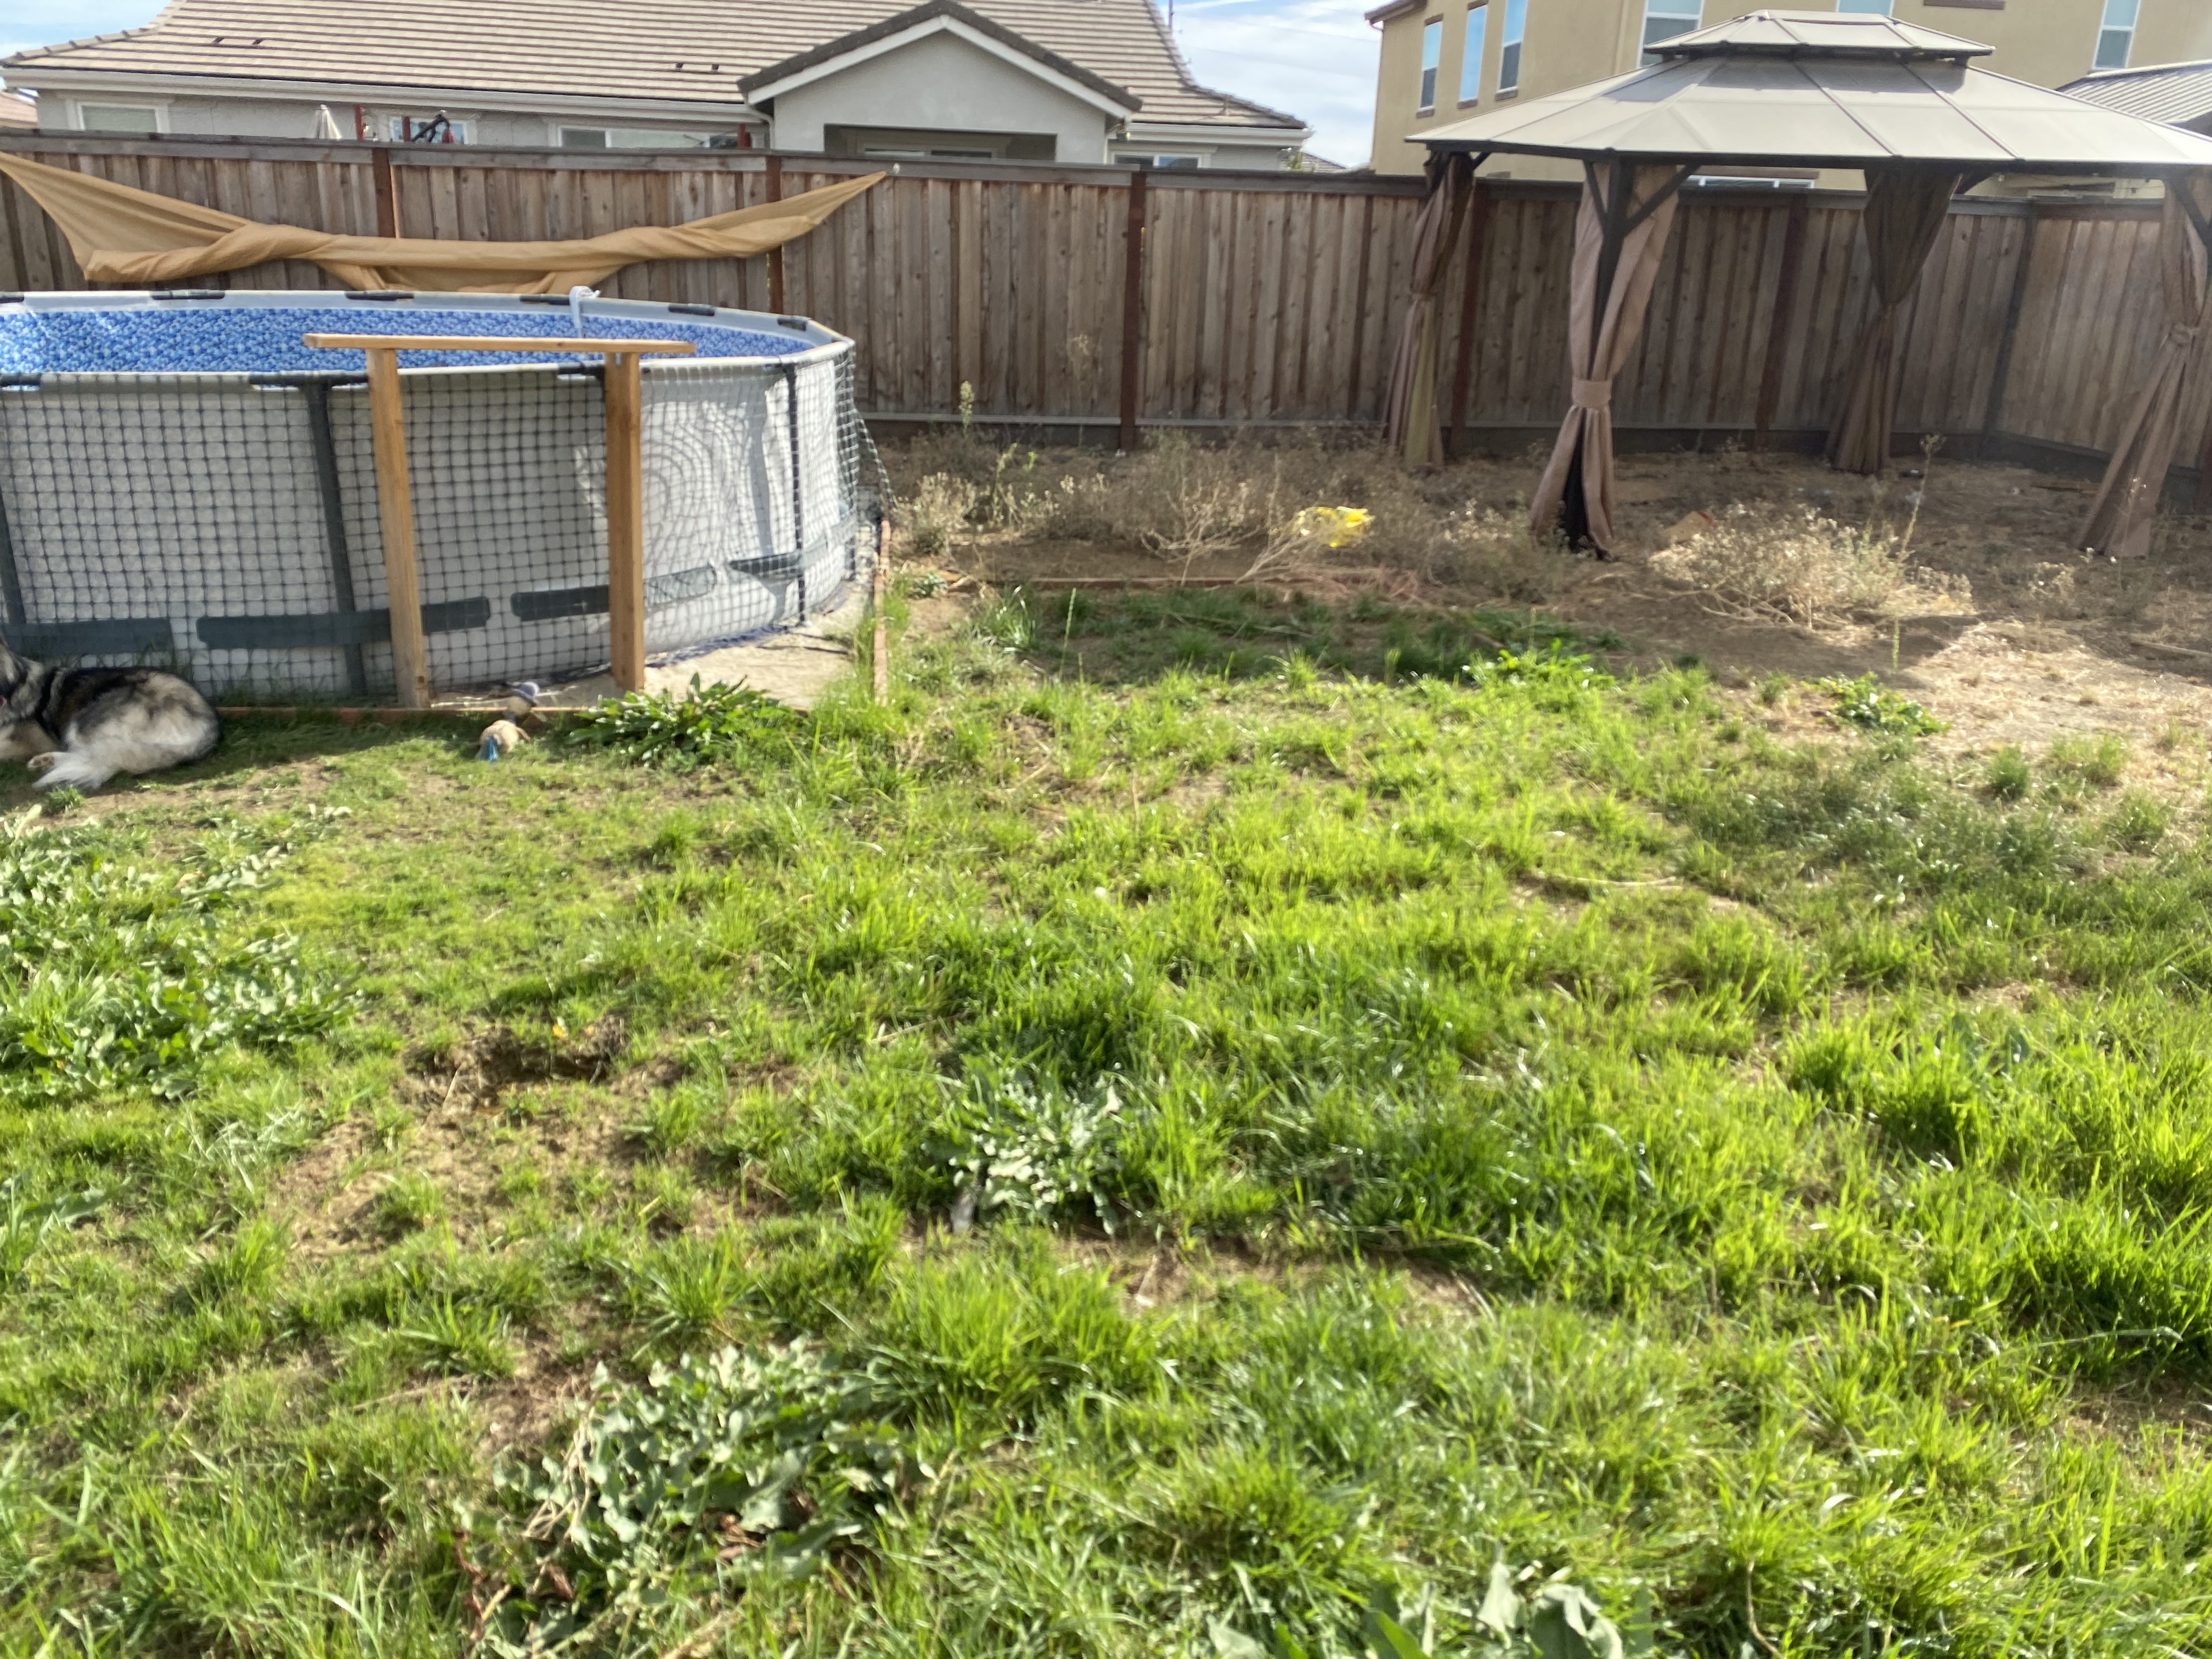weed: (7, 814, 343, 1086), (568, 1333, 899, 1554), (1216, 1556, 1651, 1659), (958, 1054, 1195, 1220), (577, 667, 784, 758)
